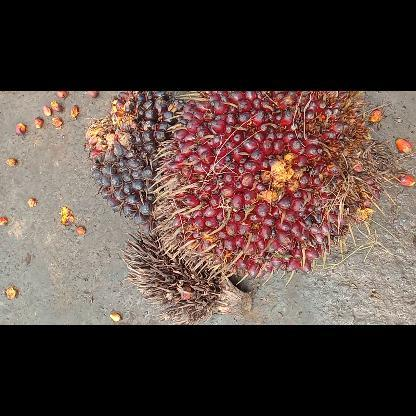Janjang kosong: (120, 224, 252, 324)
TBS masak: (148, 91, 394, 285)
TBS mentah: (84, 91, 184, 221)
